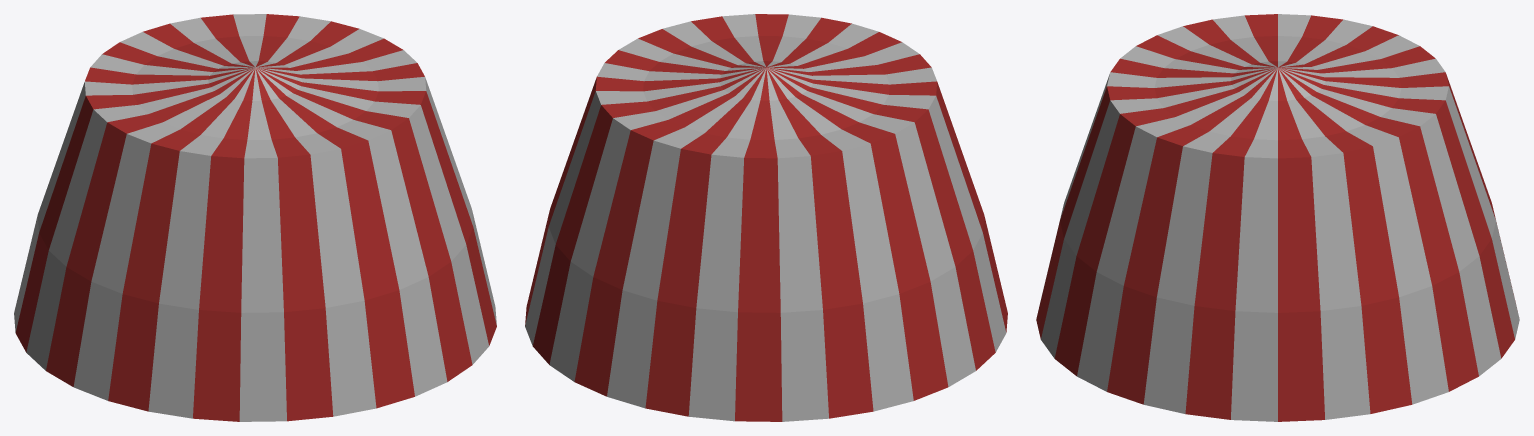
File: Circus.fbx
The picture shows the model from 3 angles, left to right: view 1: azimuth 30°, elevation 25°; view 2: azimuth 150°, elevation 25°; view 3: azimuth 270°, elevation 25°; orthographic projection.
Parts seen in each view (by area): view 1: Sphere; view 2: Sphere; view 3: Sphere.
Part boxes in pixels (<box>): Sphere: <box>14,14,496,421</box>; Sphere: <box>525,14,1007,421</box>; Sphere: <box>1036,14,1519,421</box>.
Bounding box in the file's own units: 200 × 115 × 200.
